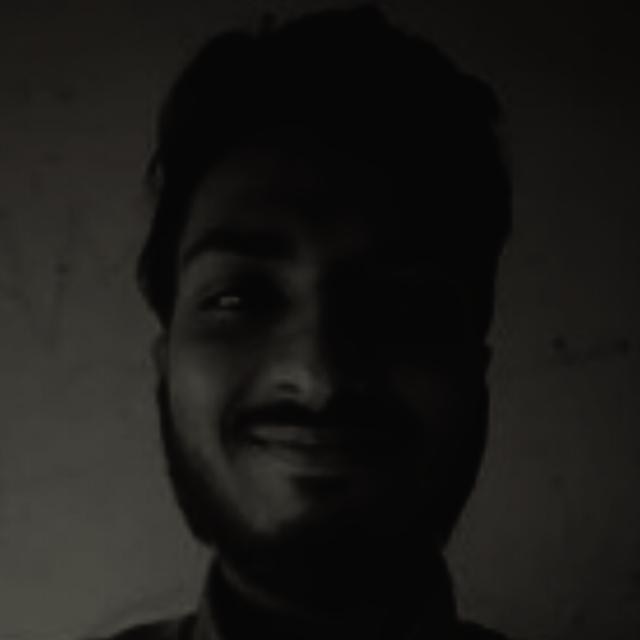Happy: (92, 99, 537, 590)
